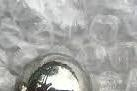ironball: (13, 50, 93, 90)
